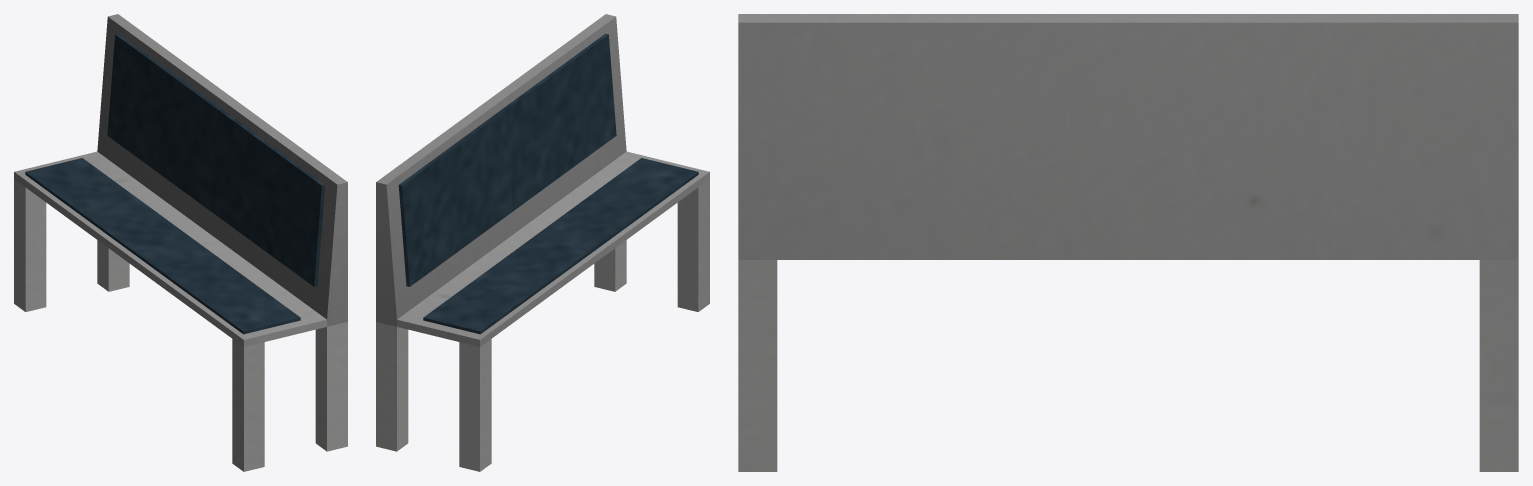
Rendered from Penkki.fbx.
3 views of the same model, side by side, from view 1: azimuth 30°, elevation 25°; view 2: azimuth 150°, elevation 25°; view 3: azimuth 270°, elevation 25° (orthographic). The views are drawn at different scales.
Parts seen in each view (by area): view 1: Penkki; view 2: Penkki; view 3: Penkki.
Part boxes in pixels (x1=…): Penkki: x1=14, y1=14, x2=347, y2=471; Penkki: x1=376, y1=14, x2=709, y2=471; Penkki: x1=738, y1=14, x2=1518, y2=471.
Bounding box in the file's own units: 200 × 486 × 765.
1 material, 1 textured.
